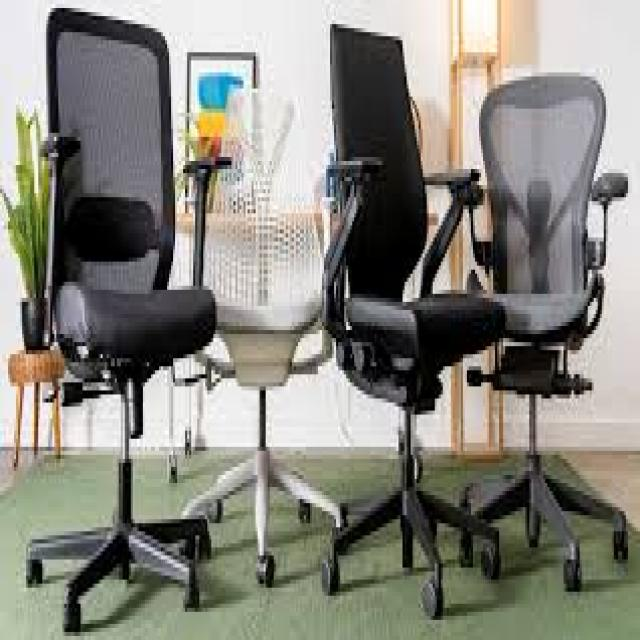chair: (27, 1, 232, 637), (321, 12, 506, 616), (458, 57, 633, 608), (197, 78, 341, 588)
